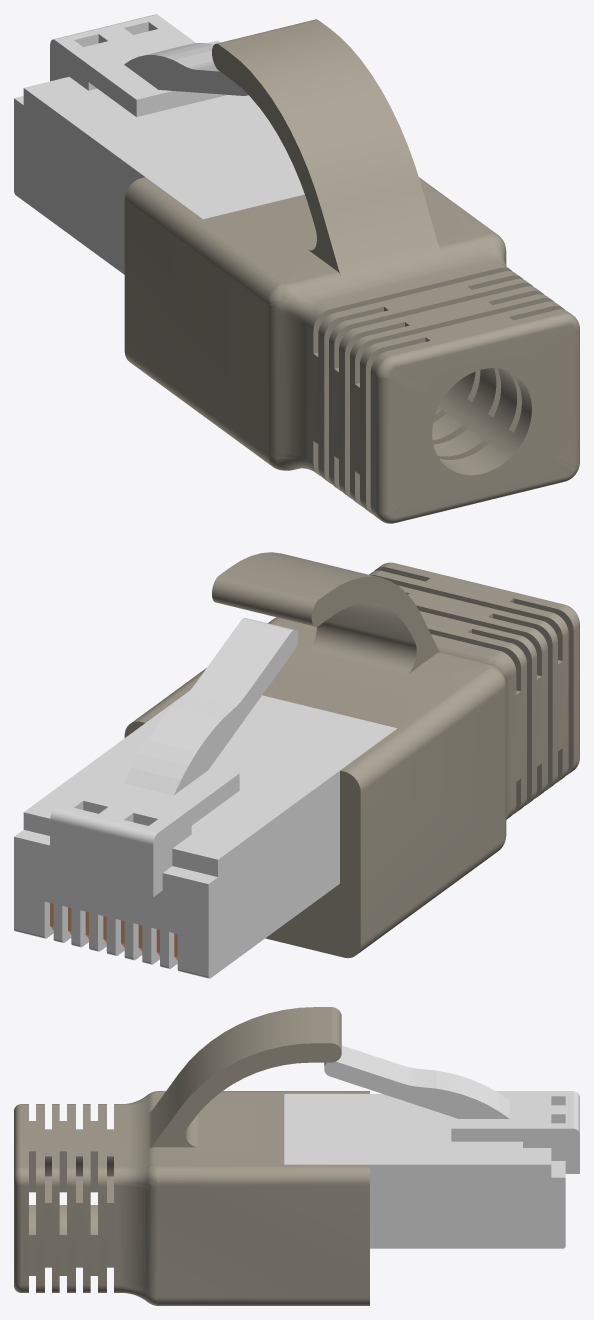
File: LanMale.fbx
3 views of the same model, one above another, from view 1: azimuth 30°, elevation 25°; view 2: azimuth 150°, elevation 25°; view 3: azimuth 270°, elevation 25° (orthographic). The views are drawn at different scales.
Parts seen in each view (by area): view 1: Extruded.045; view 2: Extruded.045; view 3: Extruded.045.
Boxes of the visible parts, x1=… form: Extruded.045: x1=14, y1=14, x2=579, y2=523; Extruded.045: x1=14, y1=552, x2=579, y2=978; Extruded.045: x1=14, y1=1007, x2=579, y2=1305.
Bounding box in the file's own units: 1.42 × 1.87 × 3.96.
